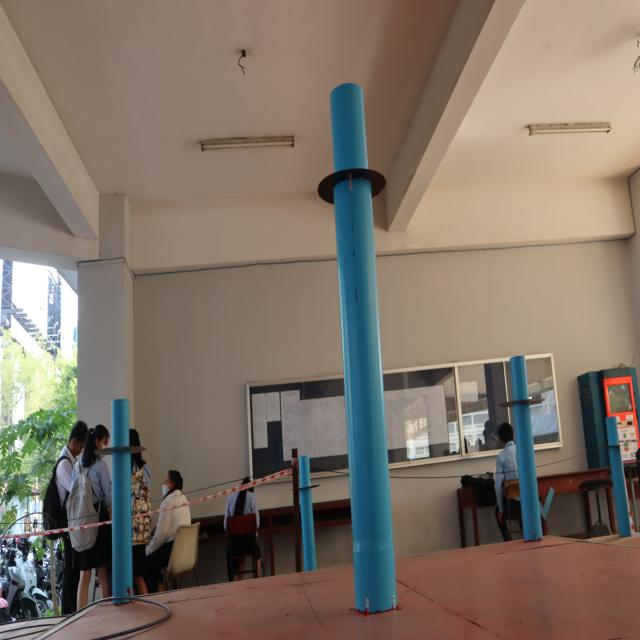pole: (305, 77, 396, 259), (497, 352, 547, 441), (102, 396, 140, 487), (596, 419, 636, 470), (292, 454, 322, 514)
